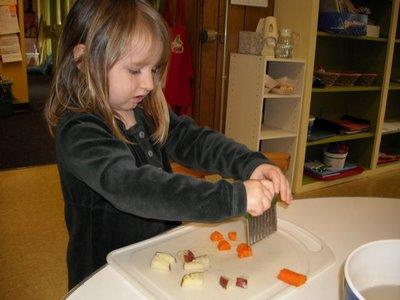person: (45, 2, 294, 288)
